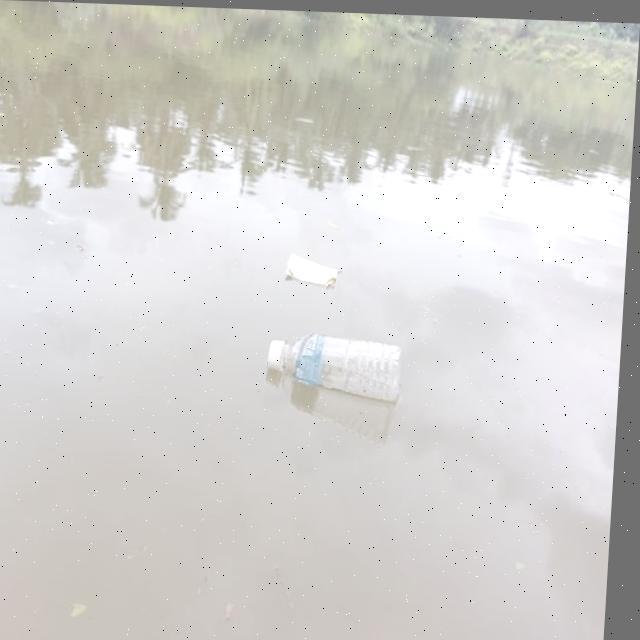paper: (280, 236, 347, 304)
waterbottle: (254, 322, 416, 413)
